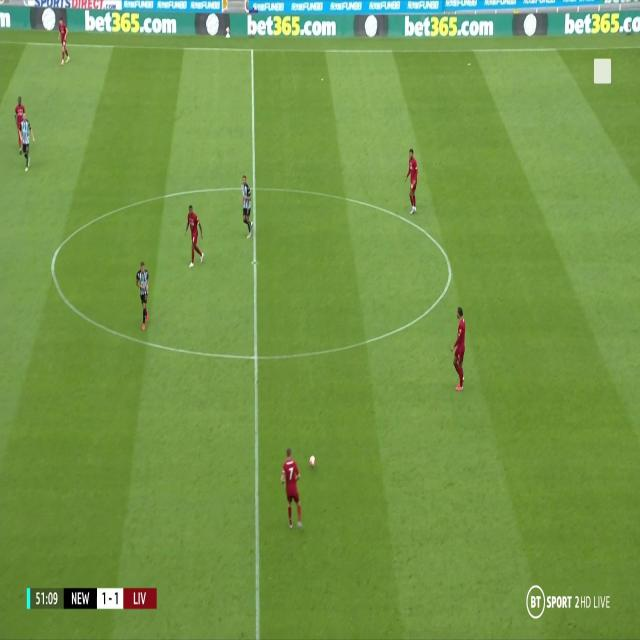ball: (308, 453, 316, 466)
player: (279, 444, 305, 533), (448, 303, 469, 392), (182, 204, 206, 269), (15, 106, 35, 174), (134, 258, 152, 330), (402, 146, 420, 216), (238, 171, 255, 239), (13, 94, 28, 163), (57, 15, 71, 63)
